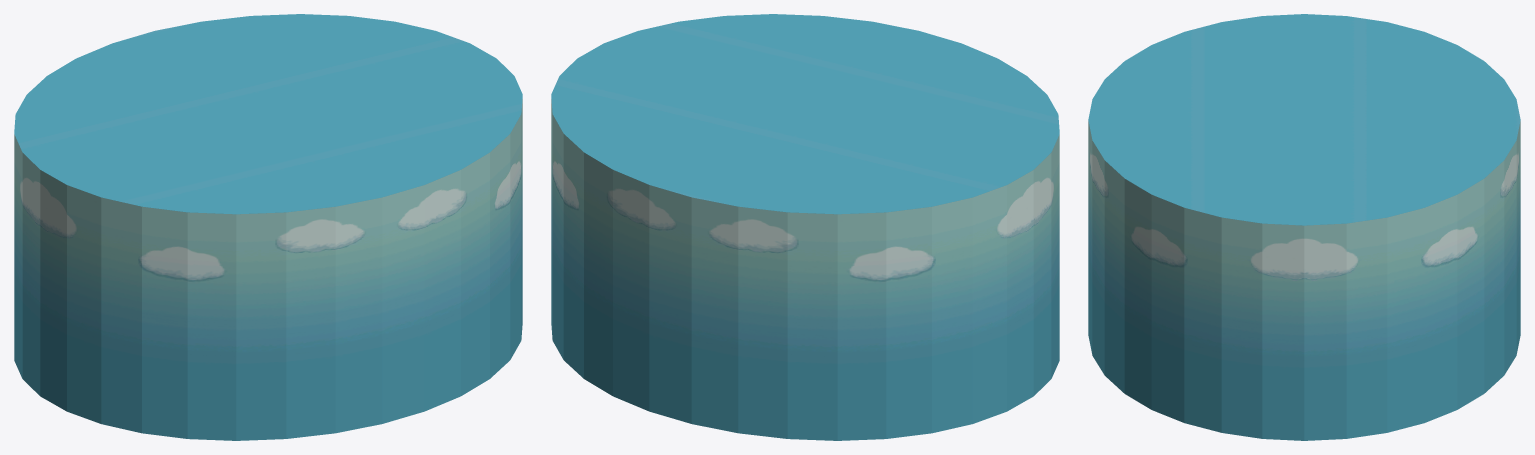
File: OutsideMariosHouse.glb
The picture shows the model from 3 angles, left to right: view 1: azimuth 30°, elevation 25°; view 2: azimuth 150°, elevation 25°; view 3: azimuth 270°, elevation 25°; orthographic projection. The views are drawn at different scales.
Visible parts, largest first — view 1: Cylinder; view 2: Cylinder; view 3: Cylinder.
Boxes of the visible parts, <box> form: Cylinder: <box>14,14,522,440</box>; Cylinder: <box>551,14,1059,440</box>; Cylinder: <box>1088,14,1520,440</box>.
Size of the model in its own units: 116 by 54.97 by 100.
Materials: 43 (43 with a texture image).
